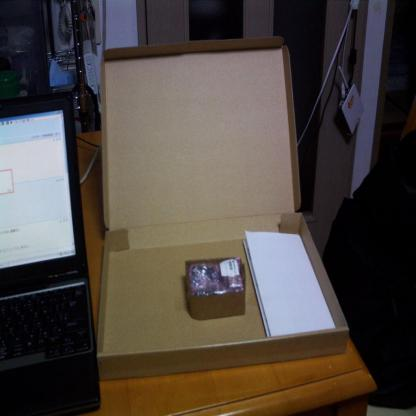board: (0, 88, 95, 415)
